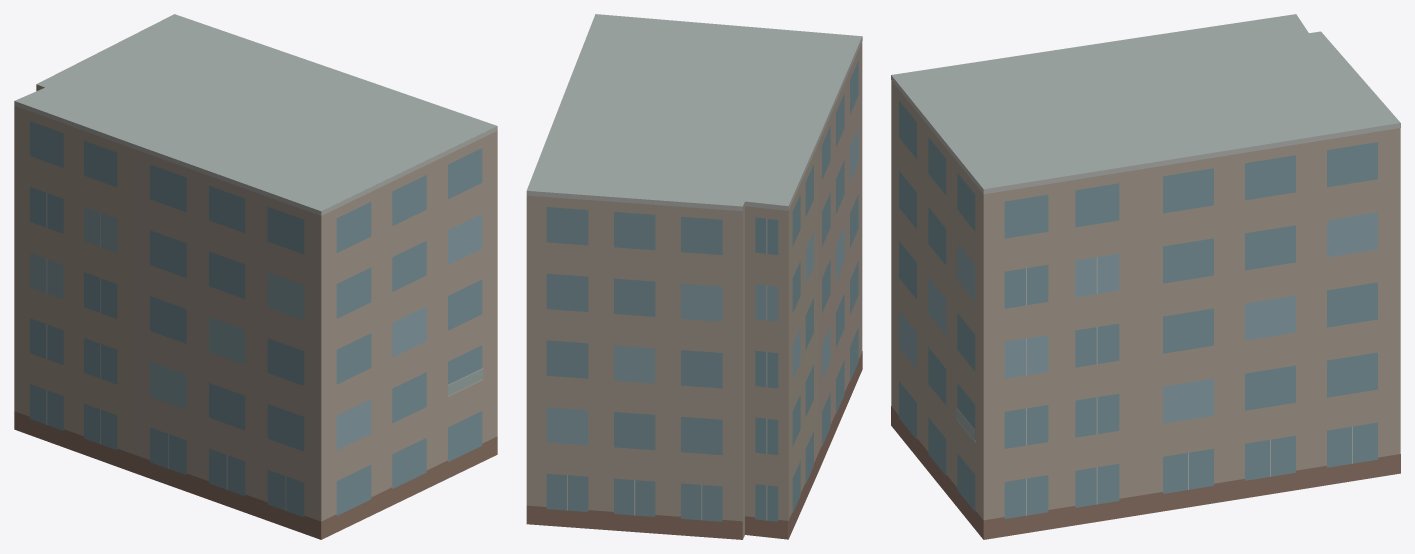
File: survey-upis-32843234.glb
3 views of the same model, side by side, from view 1: azimuth 30°, elevation 25°; view 2: azimuth 150°, elevation 25°; view 3: azimuth 270°, elevation 25° (orthographic). The views are drawn at different scales.
Parts seen in each view (by area): view 1: survey-upis-32843234.tmp; view 2: survey-upis-32843234.tmp; view 3: survey-upis-32843234.tmp.
Part boxes in pixels (x1,y1,x2,y2): survey-upis-32843234.tmp: (14, 14, 497, 539); survey-upis-32843234.tmp: (526, 14, 862, 539); survey-upis-32843234.tmp: (891, 14, 1400, 539).
Size of the model in its own units: 18.41 by 17.15 by 22.61.
